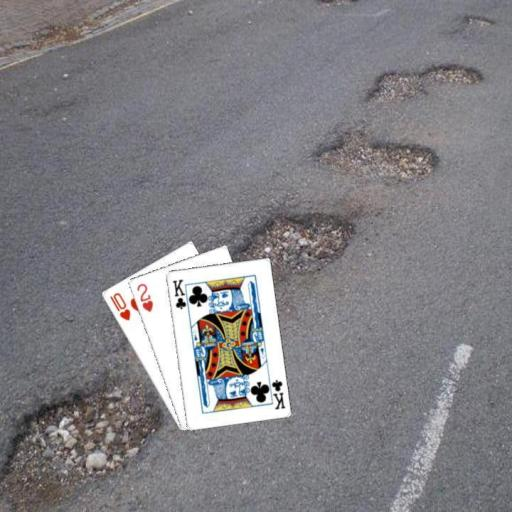card-corner: (106, 290, 132, 322), (169, 276, 191, 312), (264, 374, 286, 410), (134, 280, 154, 314)
